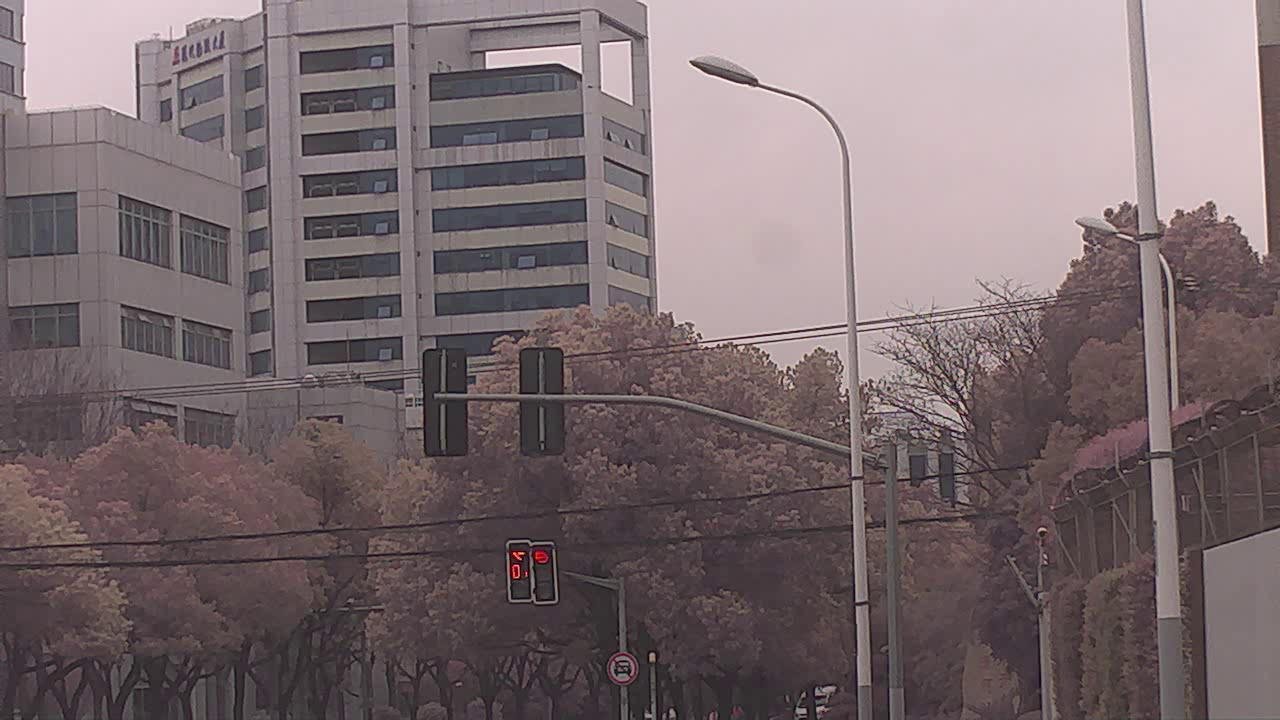traffic_light: (531, 542, 556, 600), (509, 541, 531, 606)
